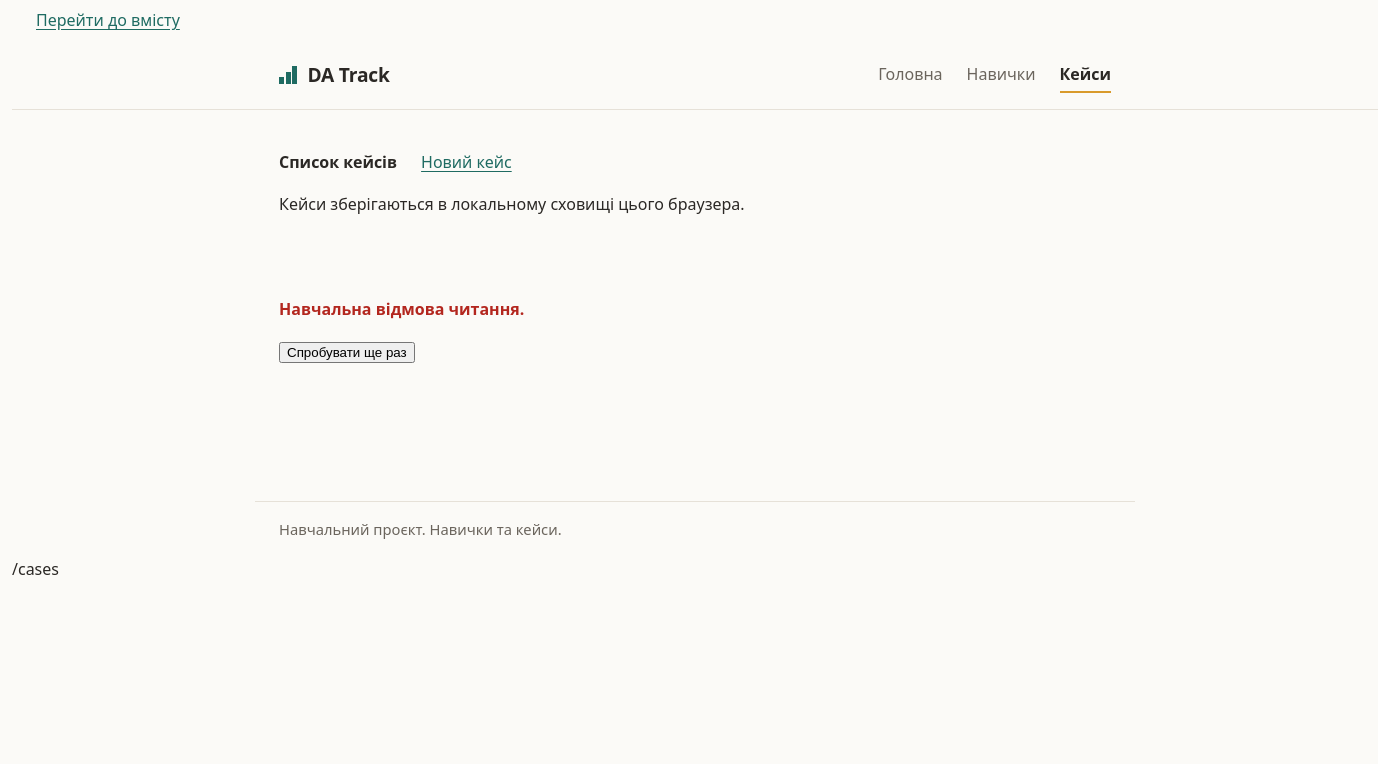
Test case: після відмови читання повторно завантажує дані
Expected: the message reads "Навчальна відмова читання.", [279,298,524,320]
Expected: the text "Аналіз продажів у SQL" is not shown
Click the button "Спробувати ще раз". click: (347, 352)
box: [279,342,415,363]
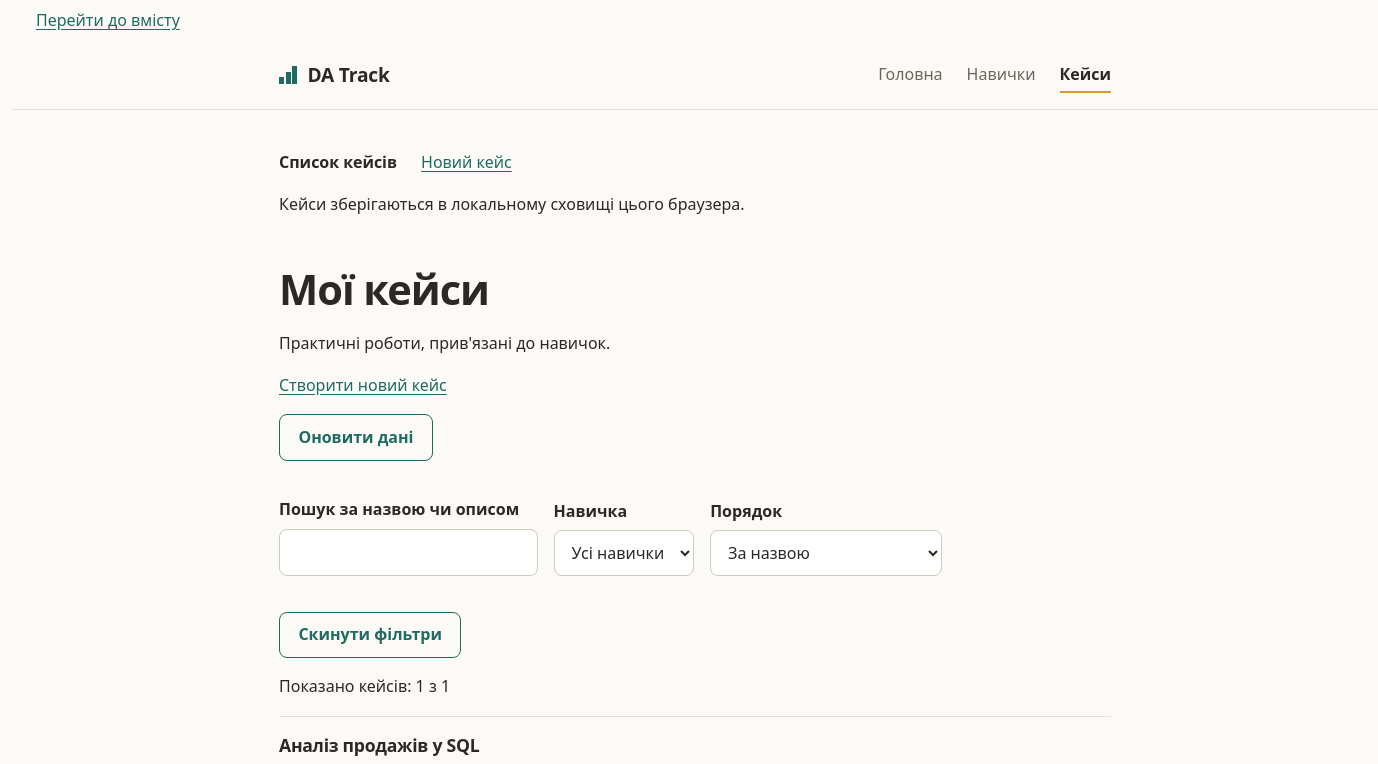
Expected: the link "Аналіз продажів у SQL" is shown, [279,733,479,757]
Expected: the message "Навчальна відмова читання." is gone
